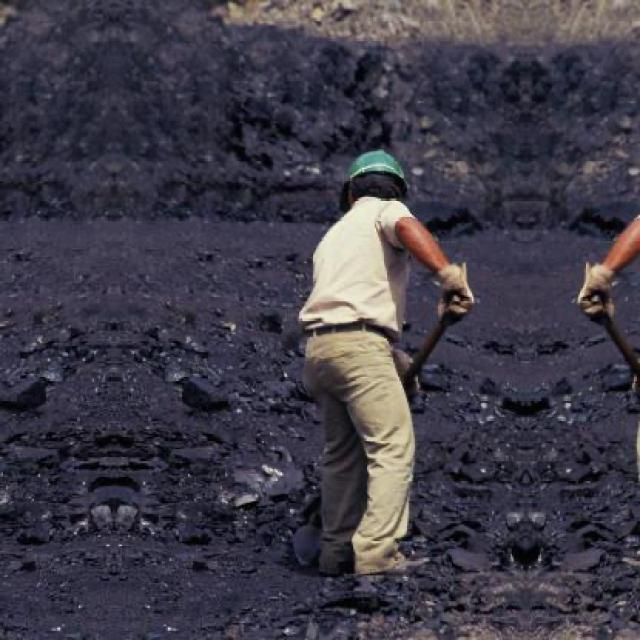con casco: (308, 120, 433, 242)
